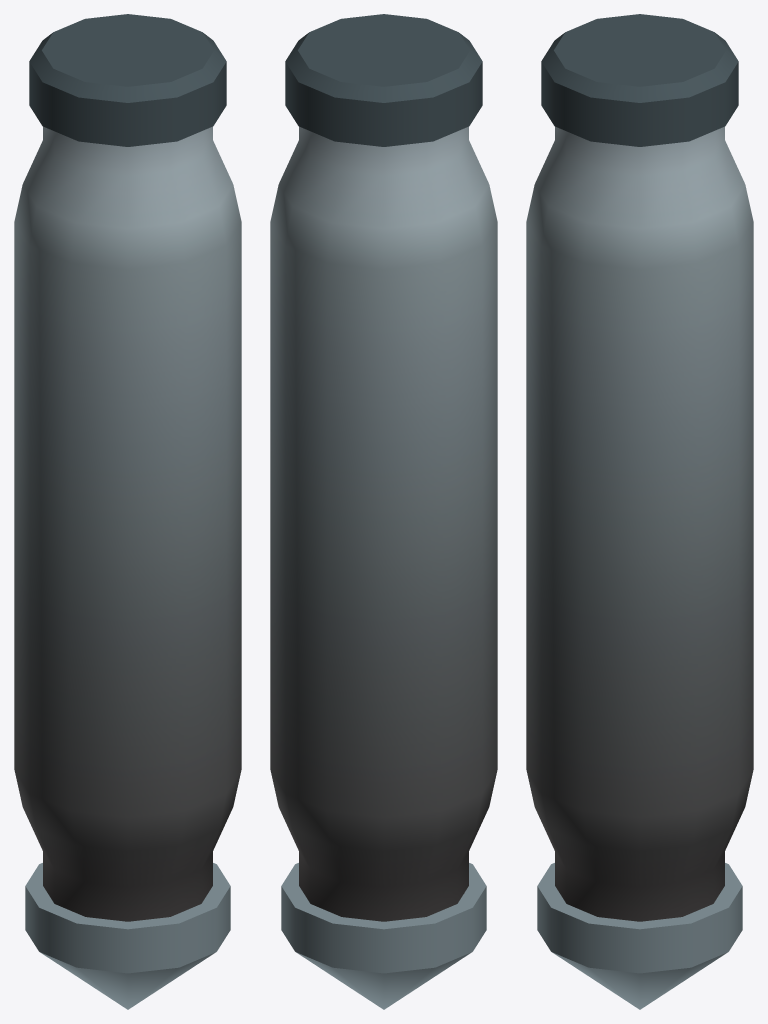
File: Mini_farm_004_Part_03.fbx
The picture shows the model from 3 angles, left to right: view 1: azimuth 30°, elevation 25°; view 2: azimuth 150°, elevation 25°; view 3: azimuth 270°, elevation 25°; orthographic projection.
Visible parts, largest first — view 1: Mini_farm_004_Part_03; view 2: Mini_farm_004_Part_03; view 3: Mini_farm_004_Part_03.
Boxes of the visible parts, <box> form: Mini_farm_004_Part_03: <box>14,14,241,1009</box>; Mini_farm_004_Part_03: <box>270,14,497,1009</box>; Mini_farm_004_Part_03: <box>526,14,753,1009</box>.
Size of the model in its own units: 15.59 by 15.59 by 72.63.
